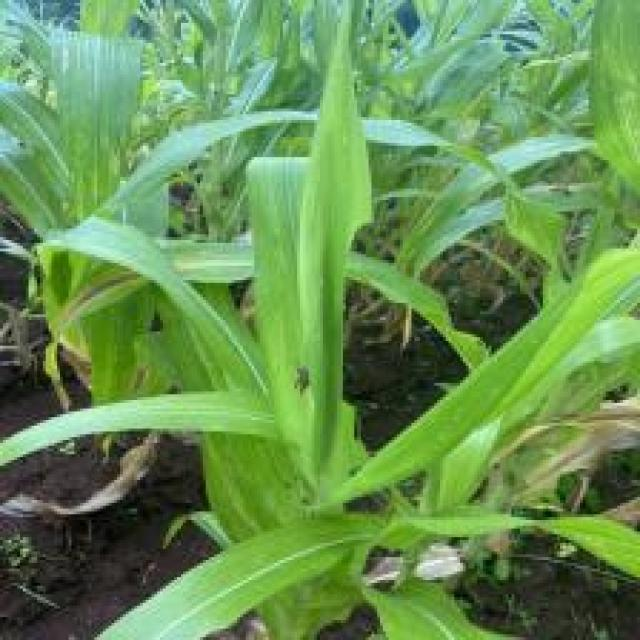Plaga: (284, 362, 335, 417)
